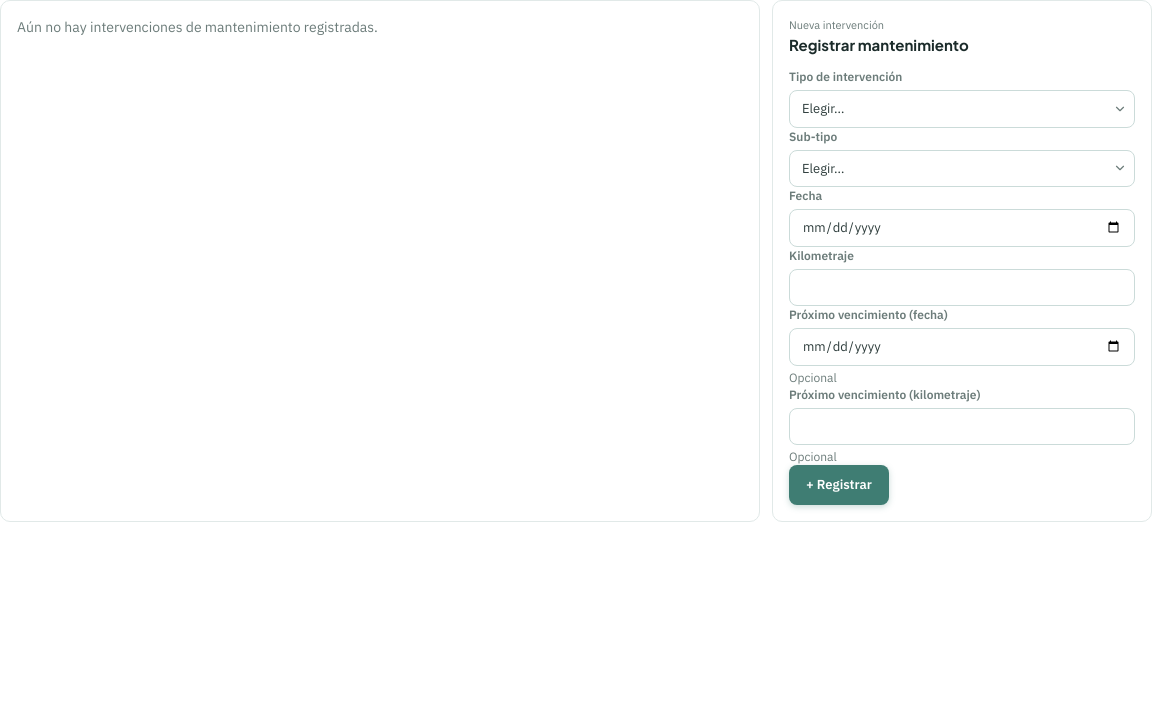
Test case: HistorialMantenimiento › bloquea el alta con fecha vacía o kilometraje negativo, señalando el campo
In the number field labelled "Kilometraje": (962, 287) x1=789 y1=268 x2=1135 y2=306, type "-5"
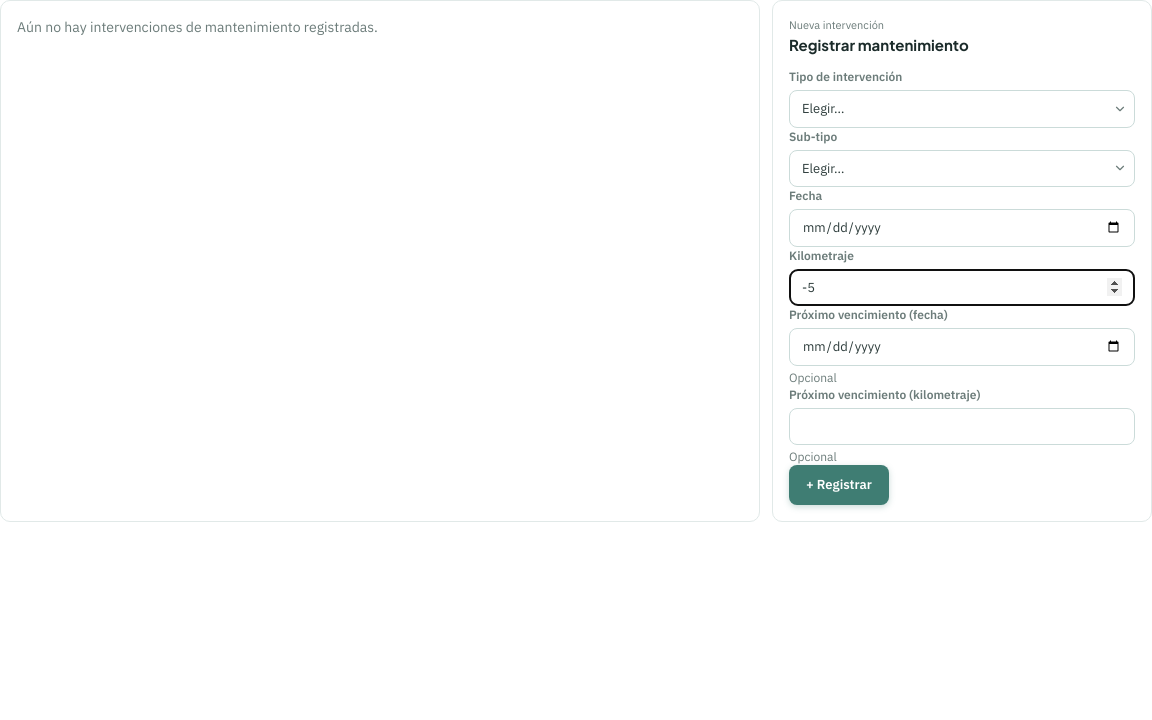
Click the button "+ Registrar": (839, 485) x1=789 y1=465 x2=889 y2=504
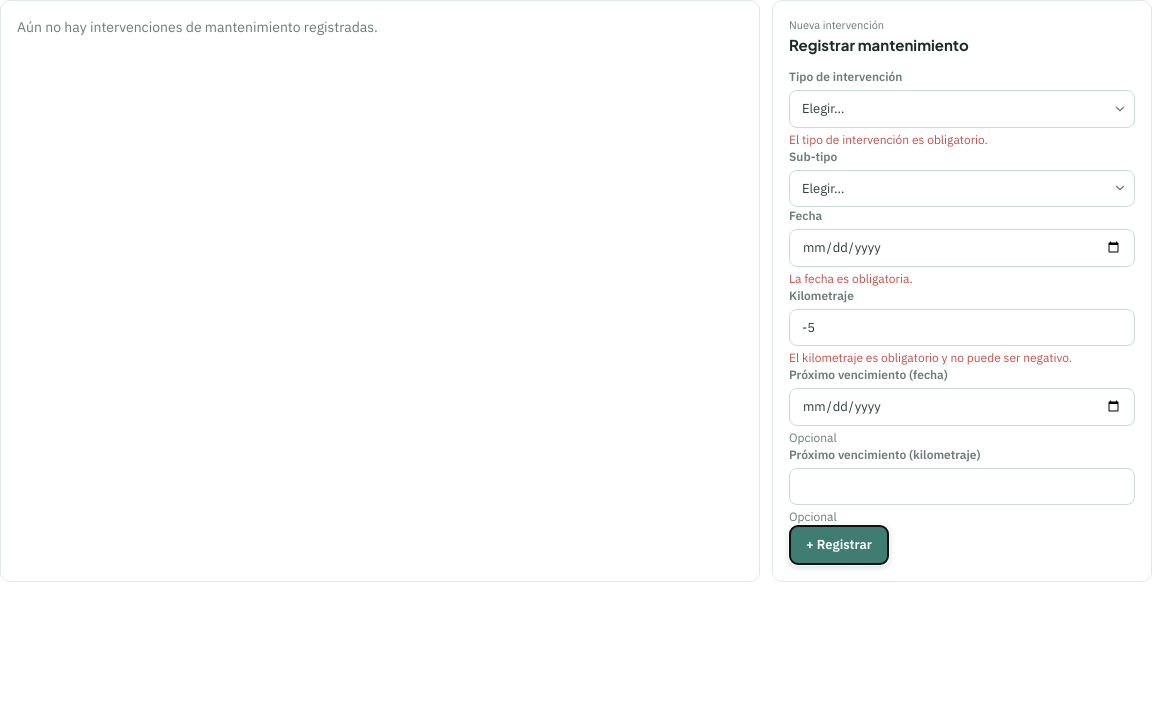
Expected: the text "La fecha es obligatoria." is shown, x1=789 y1=270 x2=913 y2=286
Expected: the text "El kilometraje es obligatorio y no puede ser negativo." is shown, x1=789 y1=350 x2=1072 y2=365
